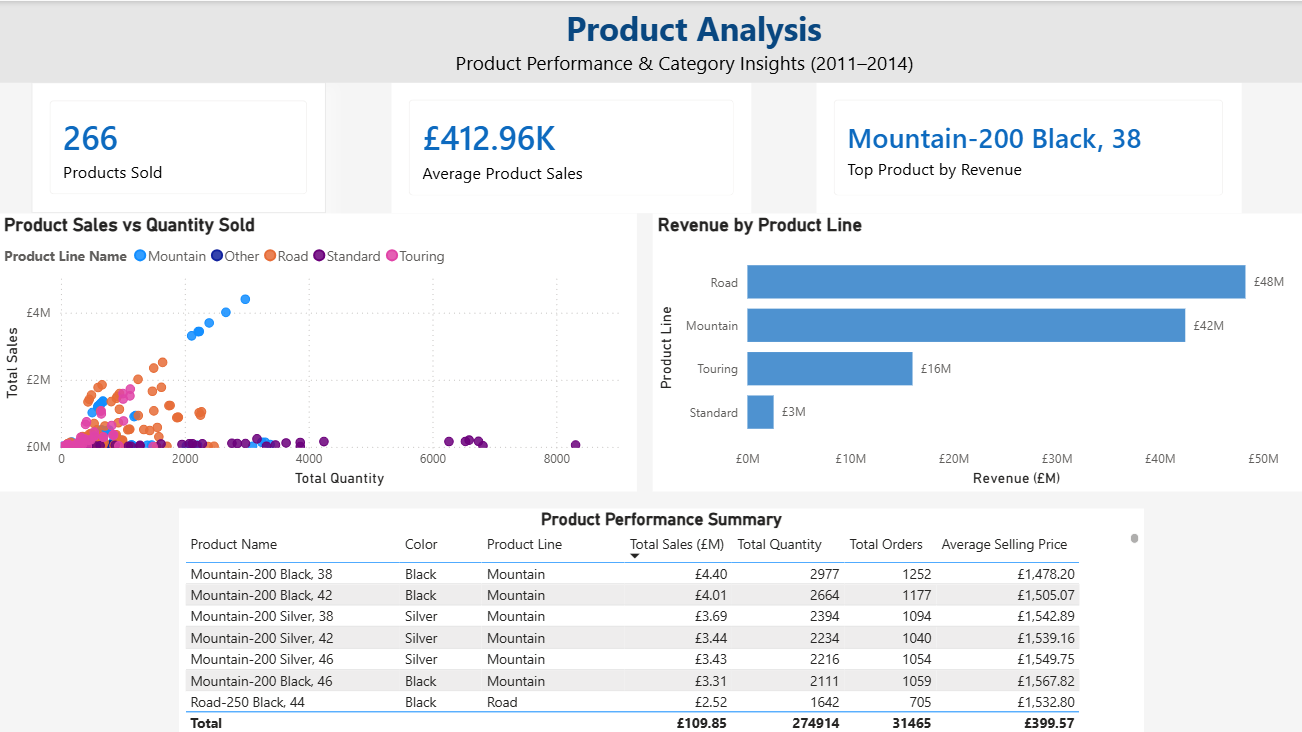

What the dashboard file says about the page in this screenshot:
{"tool":"powerbi","page":{"name":"Product Analysis","canvas":[1280,720],"ordinal":1},"visuals":[{"type":"cardVisual","fields":{"Data":["FactSales.Total Products"]},"box":[32,80,288,128],"z":0},{"type":"cardVisual","fields":{"Data":["FactSales.Average Product Sales"]},"box":[384,80,352,128],"z":1000},{"type":"cardVisual","fields":{"Data":["FactSales.Top Selling Product"]},"box":[800,80,416,128],"z":2000},{"type":"barChart","title":"Revenue by Product Line","fields":{"Y":["Sum(FactSales.SalesAmount)"],"Category":["DimProduct.Product Line Name"]},"box":[640,208,640,272],"z":3000},{"type":"tableEx","title":"Product Performance Summary","fields":{"Values":["DimProduct.ProductName","DimProduct.Color","DimProduct.Product Line Name","FactSales.Total Sales (£M)","FactSales.Total Quantity","FactSales.Total Orders","FactSales.Average Selling Price"]},"box":[176,496,944,224],"z":4000},{"type":"textbox","box":[0,0,1280,80],"z":5000},{"type":"scatterChart","title":"Product Sales vs Quantity Sold","fields":{"Y":["FactSales.Total Sales"],"X":["FactSales.Total Quantity"],"Category":["DimProduct.ProductName"],"Series":["DimProduct.Product Line Name"]},"box":[0,208,624,272],"z":6000}]}

Visuals, with their boxes in screenshot pixels (x1, y1, x2, y2), scaled from the page's 1280x720 canvas onto the 1302x732 screenshot:
cardVisual - FactSales.Total Products: x1=33, y1=81, x2=326, y2=211
cardVisual - FactSales.Average Product Sales: x1=391, y1=81, x2=749, y2=211
cardVisual - FactSales.Top Selling Product: x1=814, y1=81, x2=1237, y2=211
"Revenue by Product Line" barChart: x1=651, y1=211, x2=1301, y2=488
"Product Performance Summary" tableEx: x1=179, y1=504, x2=1139, y2=731
textbox: x1=0, y1=0, x2=1301, y2=81
"Product Sales vs Quantity Sold" scatterChart: x1=0, y1=211, x2=635, y2=488
